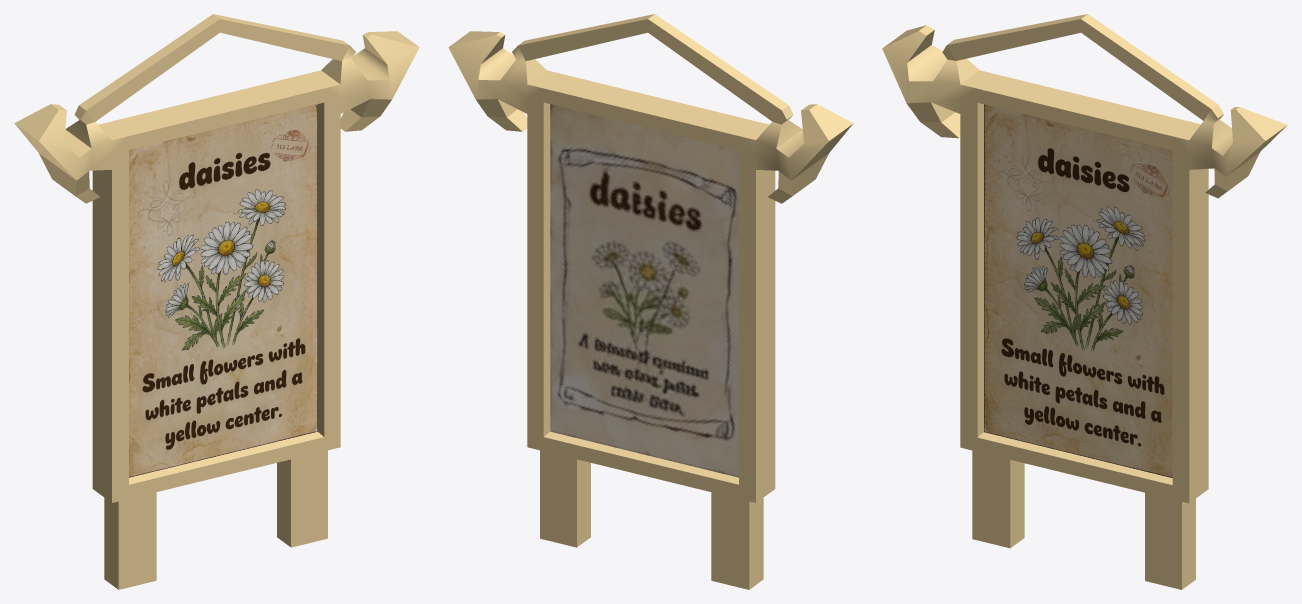
File: daisies.fbx
3 views of the same model, side by side, from view 1: azimuth 30°, elevation 25°; view 2: azimuth 150°, elevation 25°; view 3: azimuth 330°, elevation 25° (orthographic).
Parts seen in each view (by area): view 1: daisies; view 2: daisies; view 3: daisies.
Part boxes in pixels (box(x1,y1,x2,y2)): daisies: box(14, 14, 419, 589); daisies: box(448, 14, 853, 589); daisies: box(882, 14, 1287, 589).
Size of the model in its own units: 6.69 by 9.09 by 1.16.
